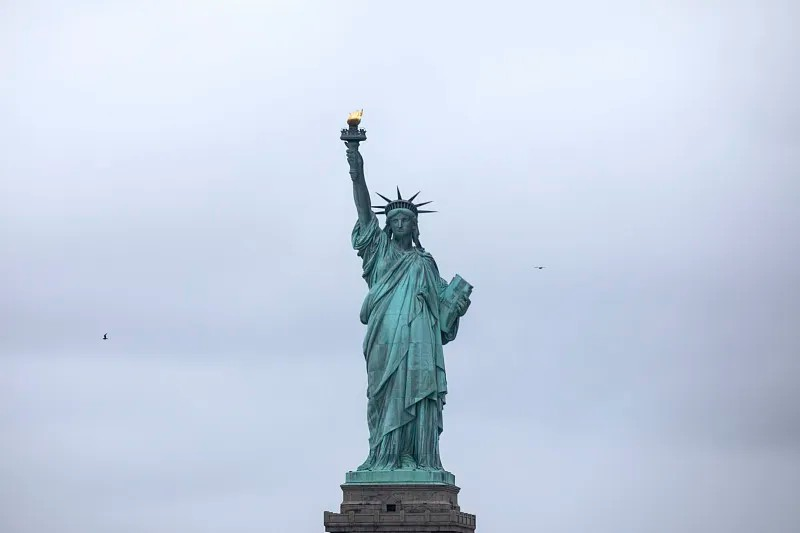SL: (323, 109, 477, 533)
